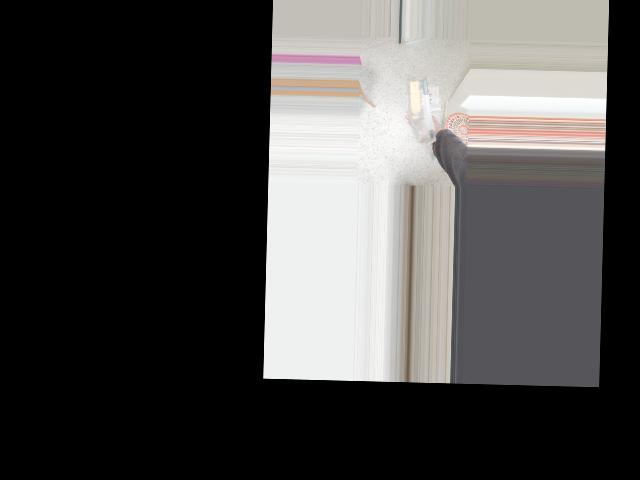cheese: (406, 78, 437, 142)
